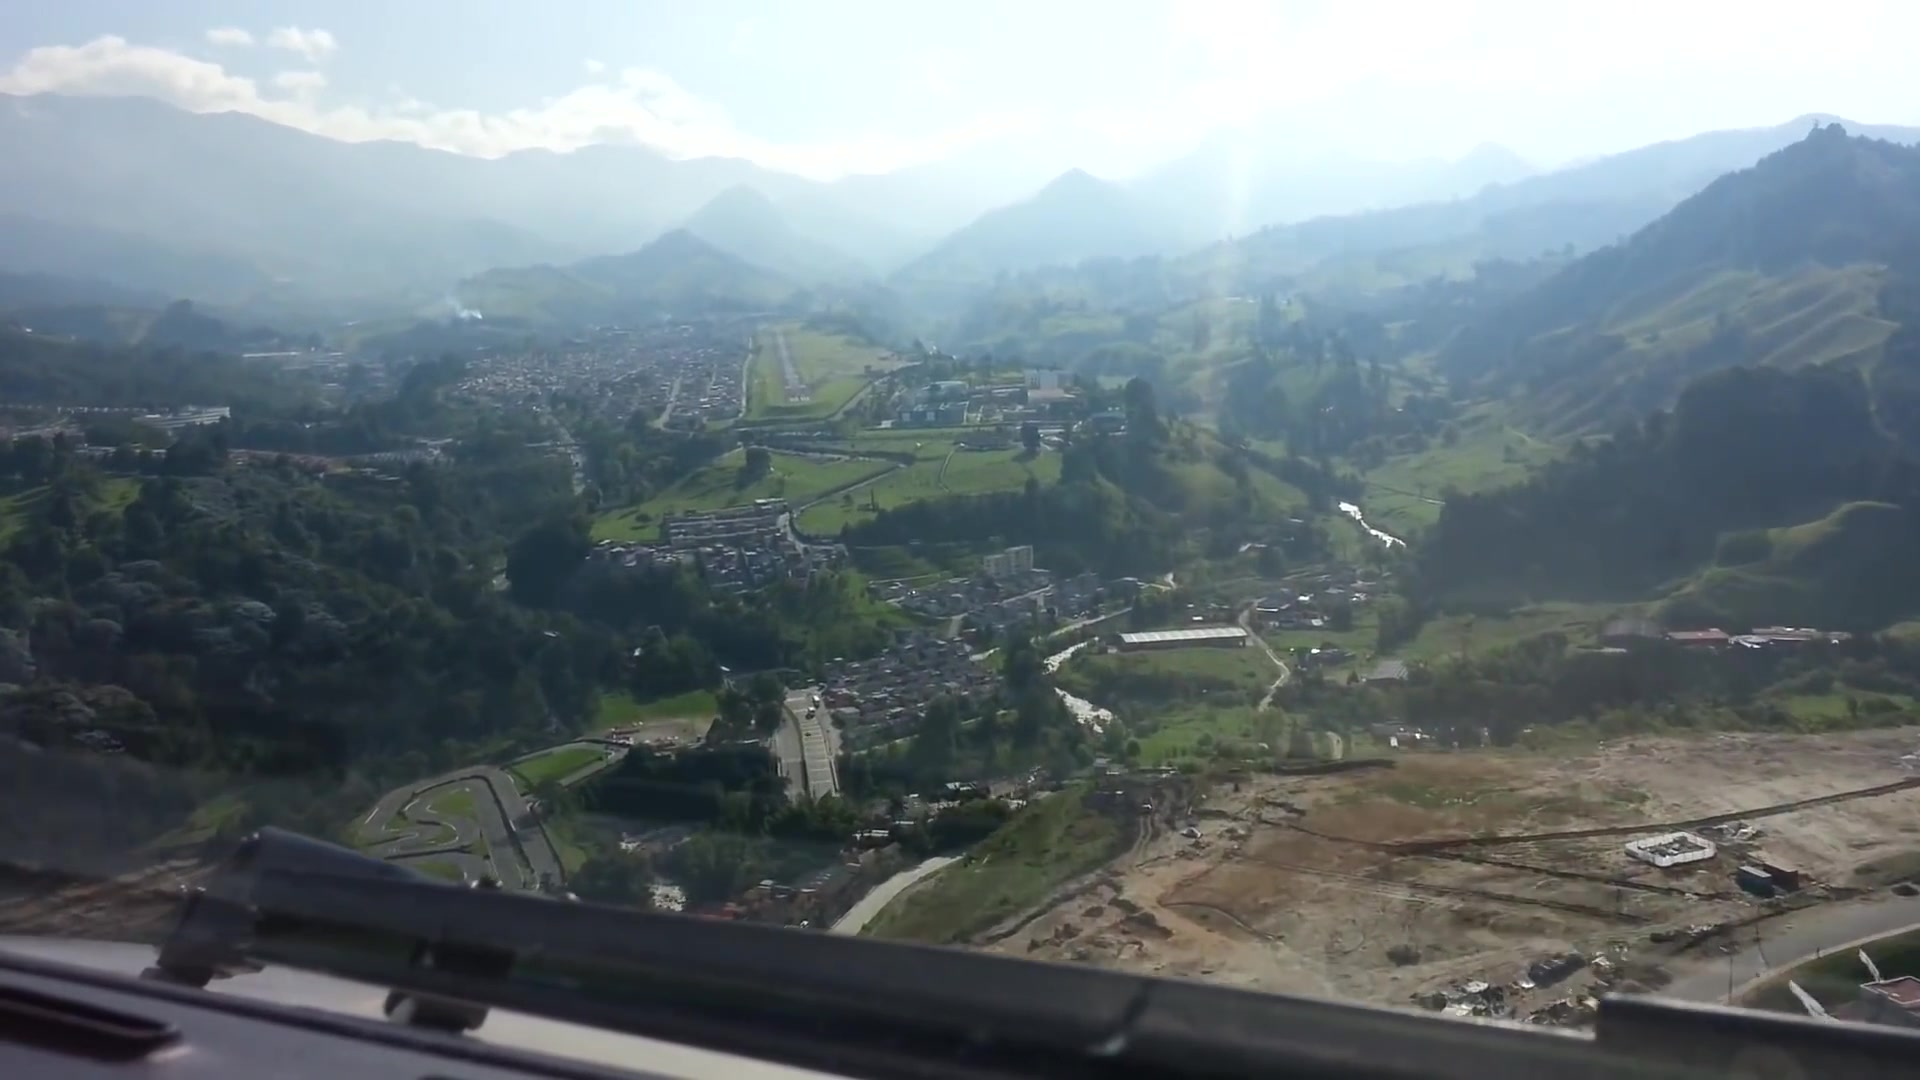runway: (769, 332, 814, 404)
